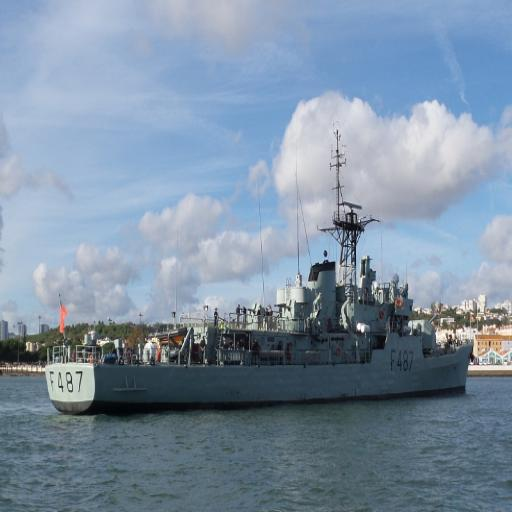Fragata: (43, 113, 477, 418)
